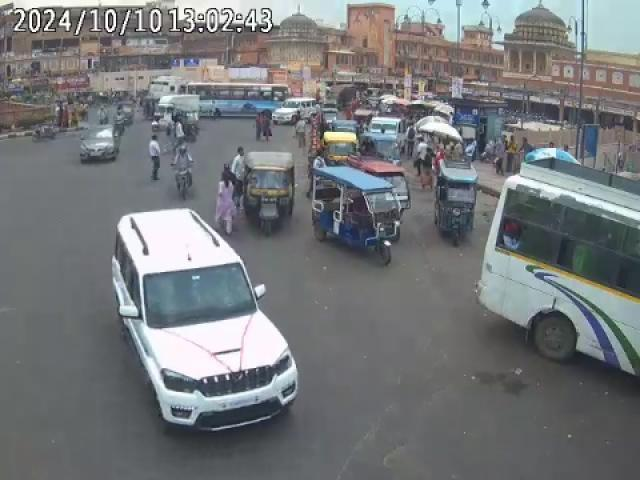auto: (309, 162, 406, 267), (240, 148, 298, 238), (435, 158, 482, 244), (322, 130, 360, 164)
bus: (477, 157, 640, 372), (192, 82, 288, 119)
car: (108, 204, 300, 437), (80, 128, 122, 163)
motorbike-rider: (171, 144, 196, 200), (31, 123, 58, 142)
person: (215, 158, 238, 234), (253, 110, 274, 144), (148, 135, 162, 179)
